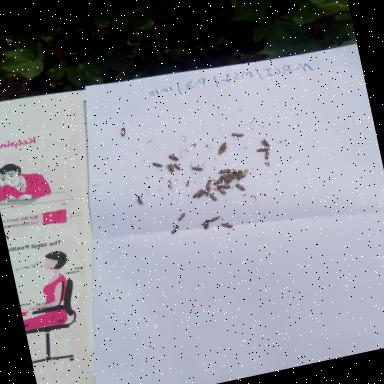pbw: (170, 208, 194, 224), (130, 191, 150, 209), (218, 218, 237, 232), (233, 164, 248, 181), (187, 160, 204, 174), (257, 148, 276, 160), (207, 212, 224, 225), (252, 144, 272, 154), (257, 136, 272, 149), (214, 144, 230, 156), (189, 185, 205, 197), (168, 222, 182, 235), (201, 176, 214, 190), (164, 175, 176, 190), (148, 159, 164, 170), (164, 161, 177, 174), (206, 191, 220, 203), (234, 180, 248, 192), (211, 176, 226, 187), (230, 128, 246, 138), (216, 180, 232, 190), (166, 151, 180, 162), (215, 166, 232, 175), (180, 178, 195, 188), (239, 166, 251, 178), (200, 218, 210, 231), (216, 140, 229, 150), (118, 123, 127, 137), (196, 188, 208, 198), (203, 185, 213, 197), (216, 185, 227, 195), (172, 162, 182, 172), (264, 158, 272, 166)
